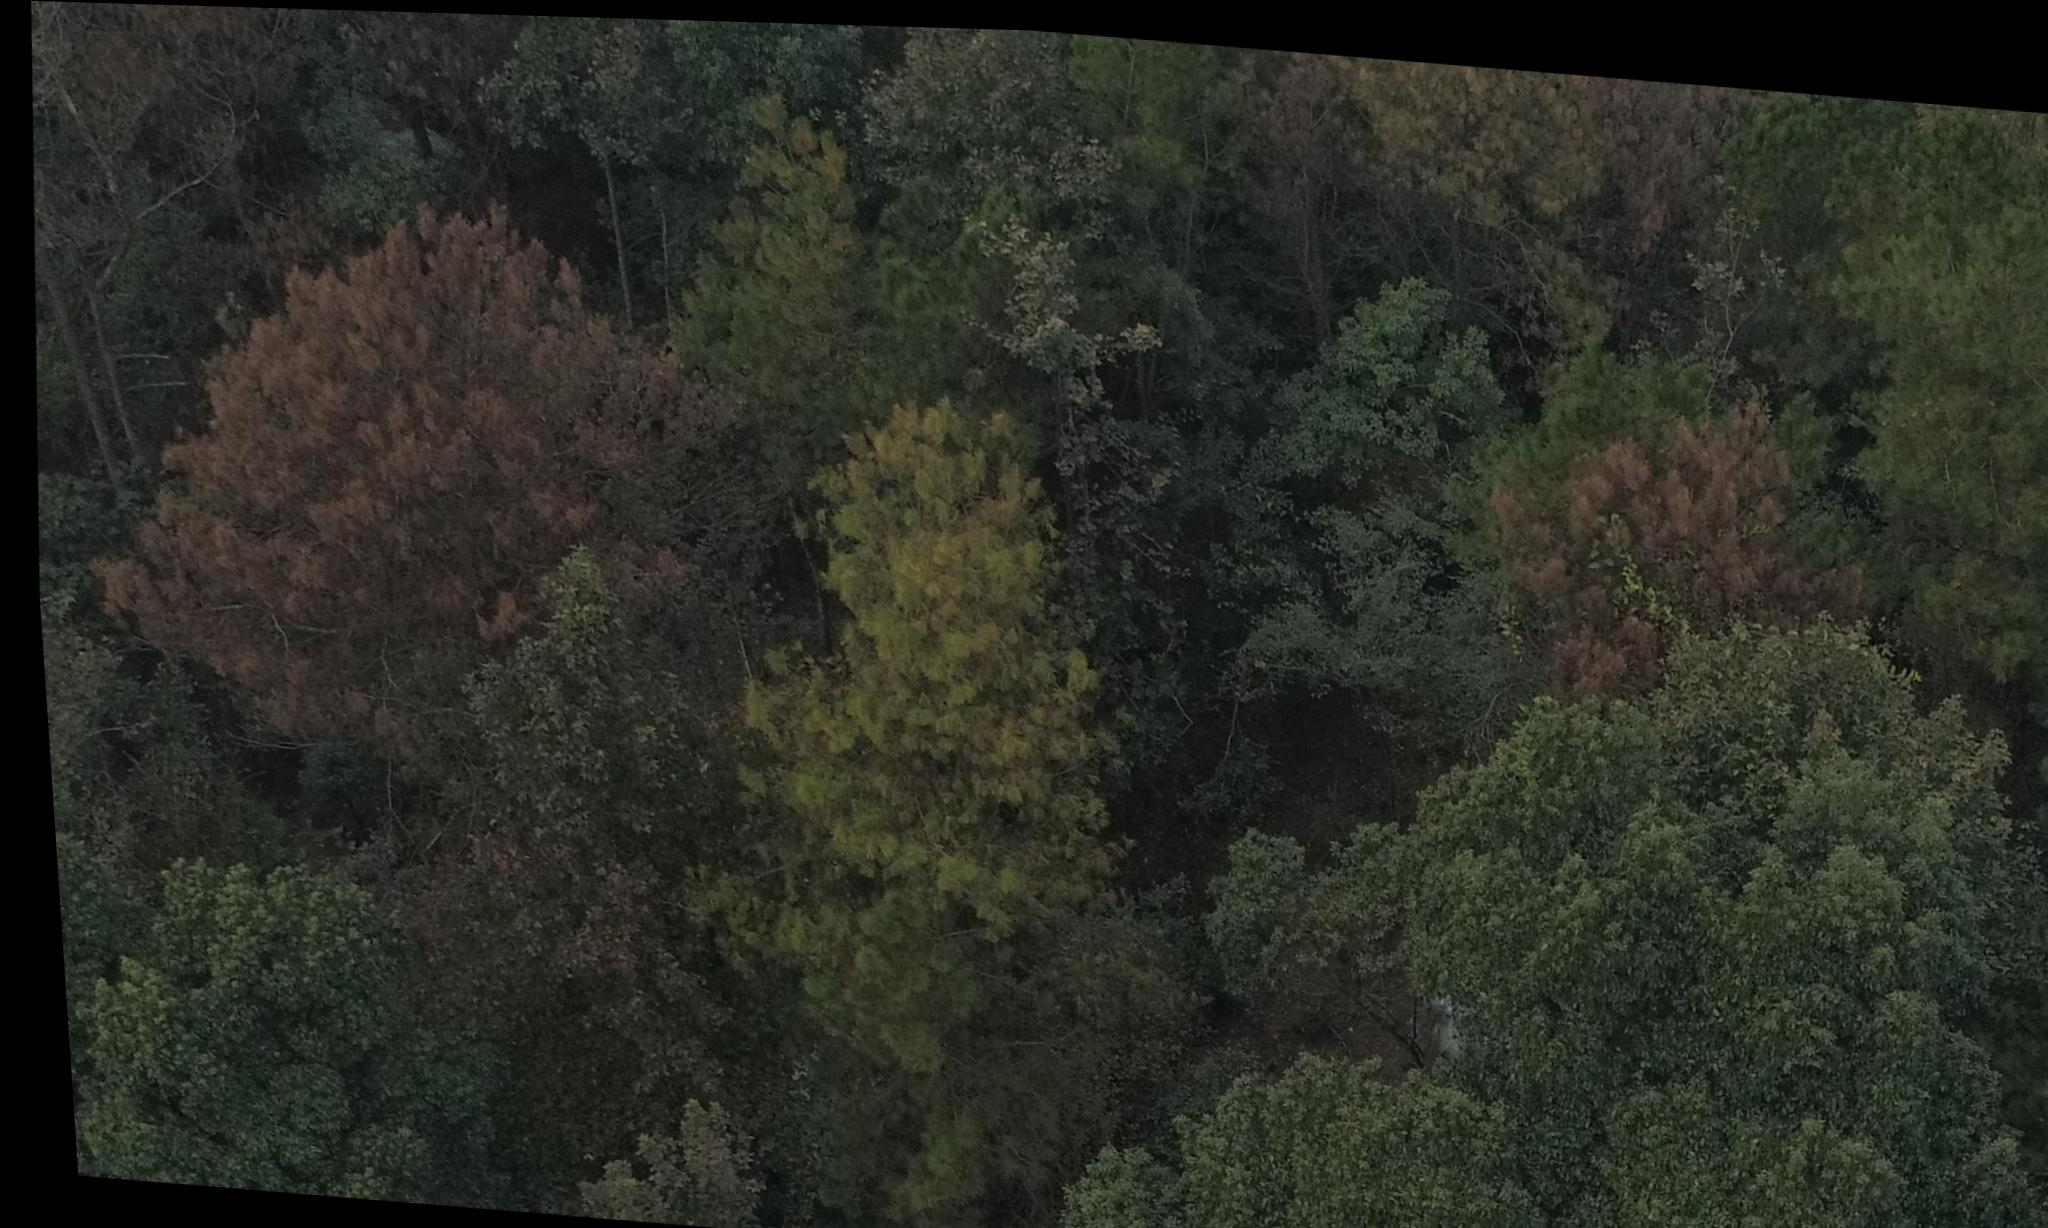heavy: (64, 181, 670, 782), (1471, 371, 1886, 710)
light: (734, 376, 1118, 918)
